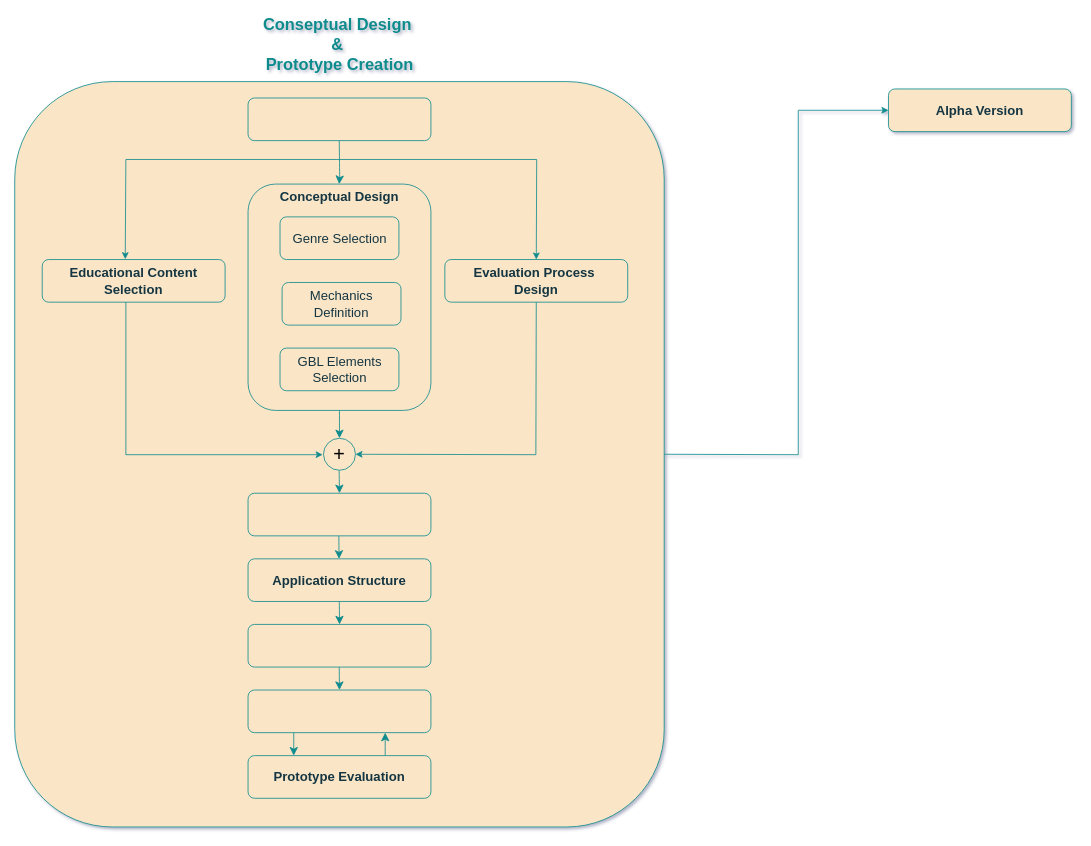
This 1091x846 diagram has some shape labels left out. The centre of each missing label's shape, as x and y in pixels:
"Development Process Definition" belongs at point (339, 514).
"Level Wireframe" belongs at point (339, 645).
"Prototype" belongs at point (339, 711).
"Tech Stack Selection" belongs at point (339, 119).
